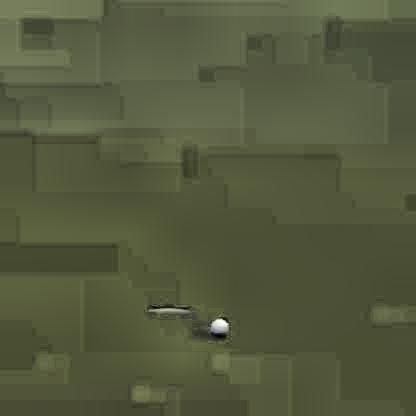golfball: (206, 314, 228, 337)
